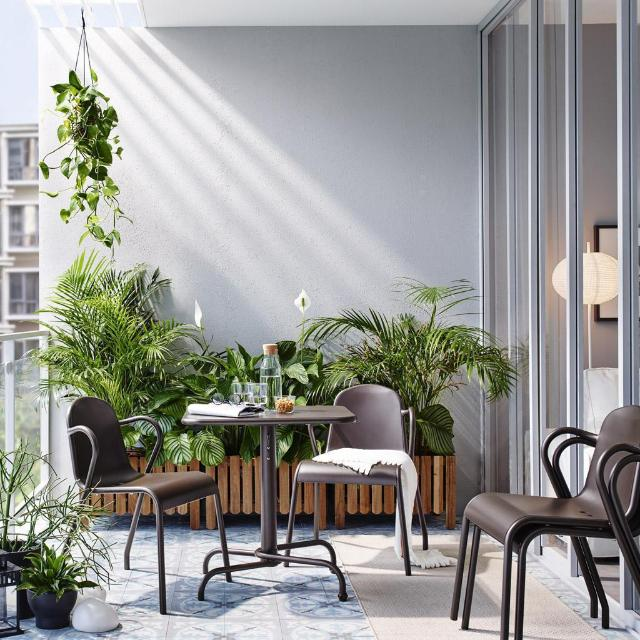chair: (450, 405, 640, 640), (68, 396, 229, 614), (288, 384, 455, 574)
plant: (18, 545, 96, 629)
table: (182, 405, 356, 600)
